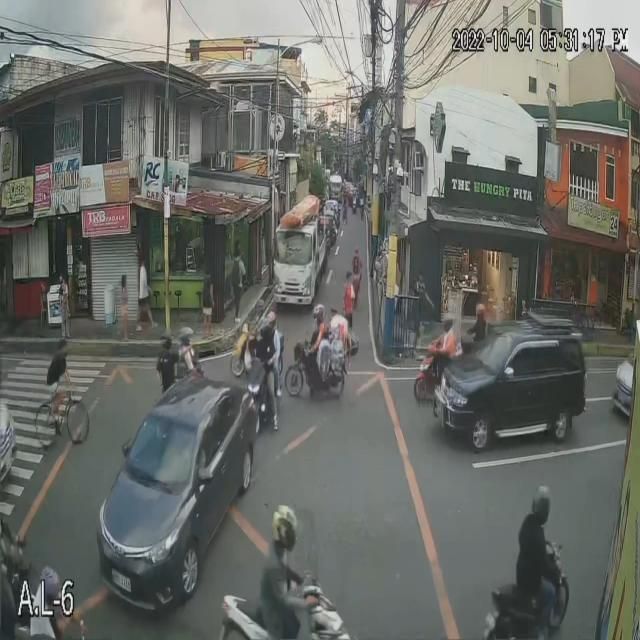Full-Faced: (267, 499, 299, 556), (527, 478, 553, 526), (178, 320, 197, 358), (157, 332, 180, 359), (440, 317, 461, 338), (257, 325, 272, 350), (312, 306, 328, 328), (263, 310, 279, 331), (253, 297, 266, 319), (474, 304, 486, 323)
Invalid: (35, 568, 59, 605)
